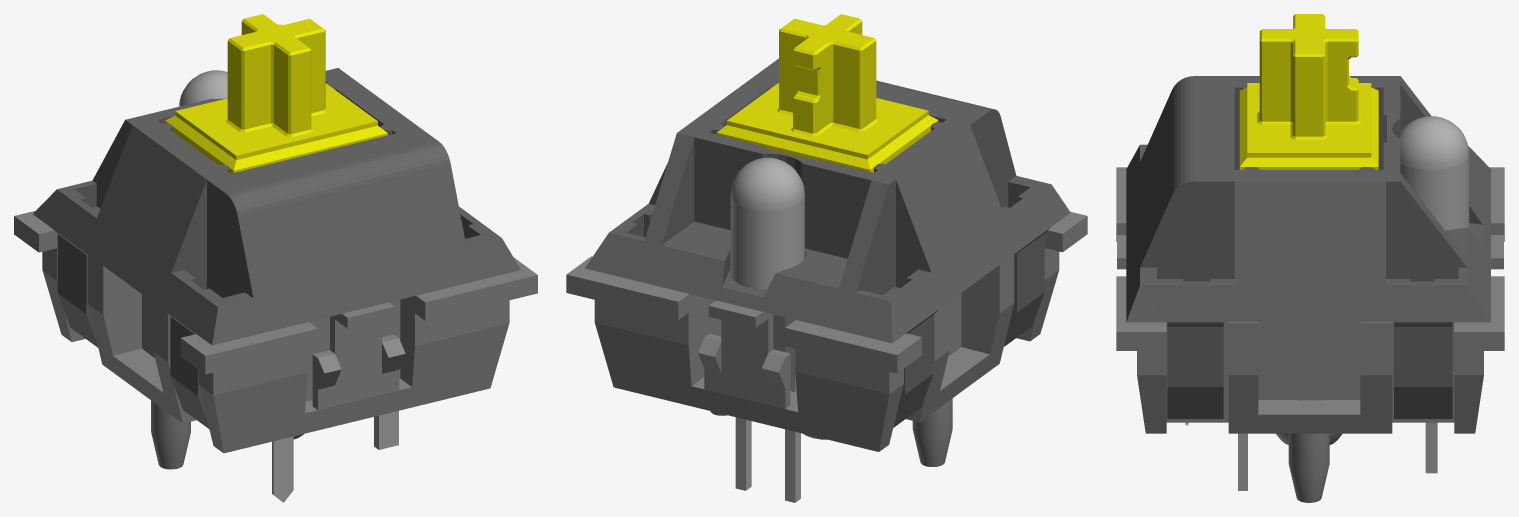
The picture shows the model from 3 angles, left to right: view 1: azimuth 30°, elevation 25°; view 2: azimuth 150°, elevation 25°; view 3: azimuth 270°, elevation 25°; orthographic projection. The views are drawn at different scales.
Parts seen in each view (by area): view 1: MX5, MX3, MX4, MX2; view 2: MX5, MX3, MX4, MX2; view 3: MX5, MX3, MX4, MX2.
Boxes of the visible parts, x1,y1,x2,y2 form: MX5: (33, 68, 520, 428); MX3: (14, 210, 537, 502); MX4: (165, 14, 387, 173); MX2: (179, 70, 227, 106); MX5: (585, 58, 1070, 427); MX3: (566, 211, 1087, 466); MX4: (716, 14, 938, 172); MX2: (730, 157, 804, 502); MX5: (1126, 76, 1490, 418); MX3: (1116, 167, 1504, 502); MX4: (1239, 14, 1378, 169); MX2: (1398, 116, 1469, 473).
Size of the model in its own units: 1.58 by 1.89 by 1.57.
